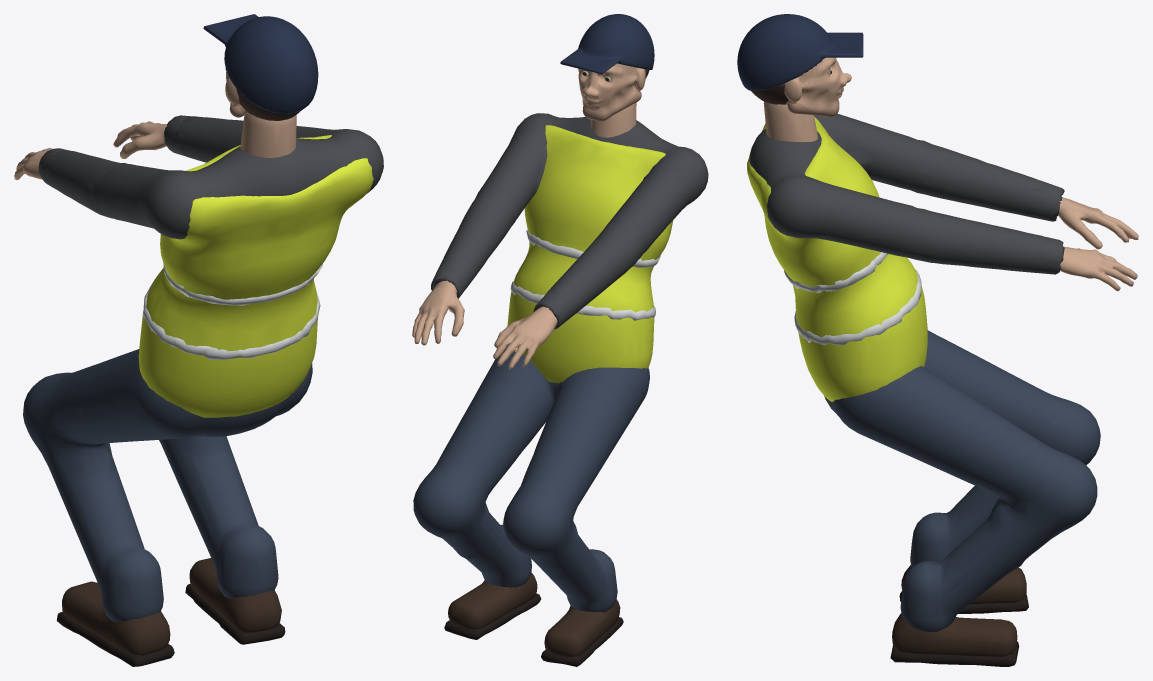
Rendered from hivis.glb.
3 views of the same model, side by side, from view 1: azimuth 30°, elevation 25°; view 2: azimuth 150°, elevation 25°; view 3: azimuth 270°, elevation 25° (orthographic). The views are drawn at different scales.
Parts seen in each view (by area): view 1: hivis_body, hivis_head, hivis_hands; view 2: hivis_body, hivis_head, hivis_hands; view 3: hivis_body, hivis_head, hivis_hands.
Boxes of the visible parts, x1,y1,x2,y2 form: hivis_body: (23,113,383,666); hivis_head: (203,14,318,120); hivis_hands: (14,115,191,188); hivis_body: (413,102,708,666); hivis_head: (560,14,654,121); hivis_hands: (412,265,573,369); hivis_body: (747,101,1100,666); hivis_head: (737,14,863,117); hivis_hands: (1025,180,1138,291).
Bounding box in the file's own units: 0.5009 × 1.42 × 0.8407.
